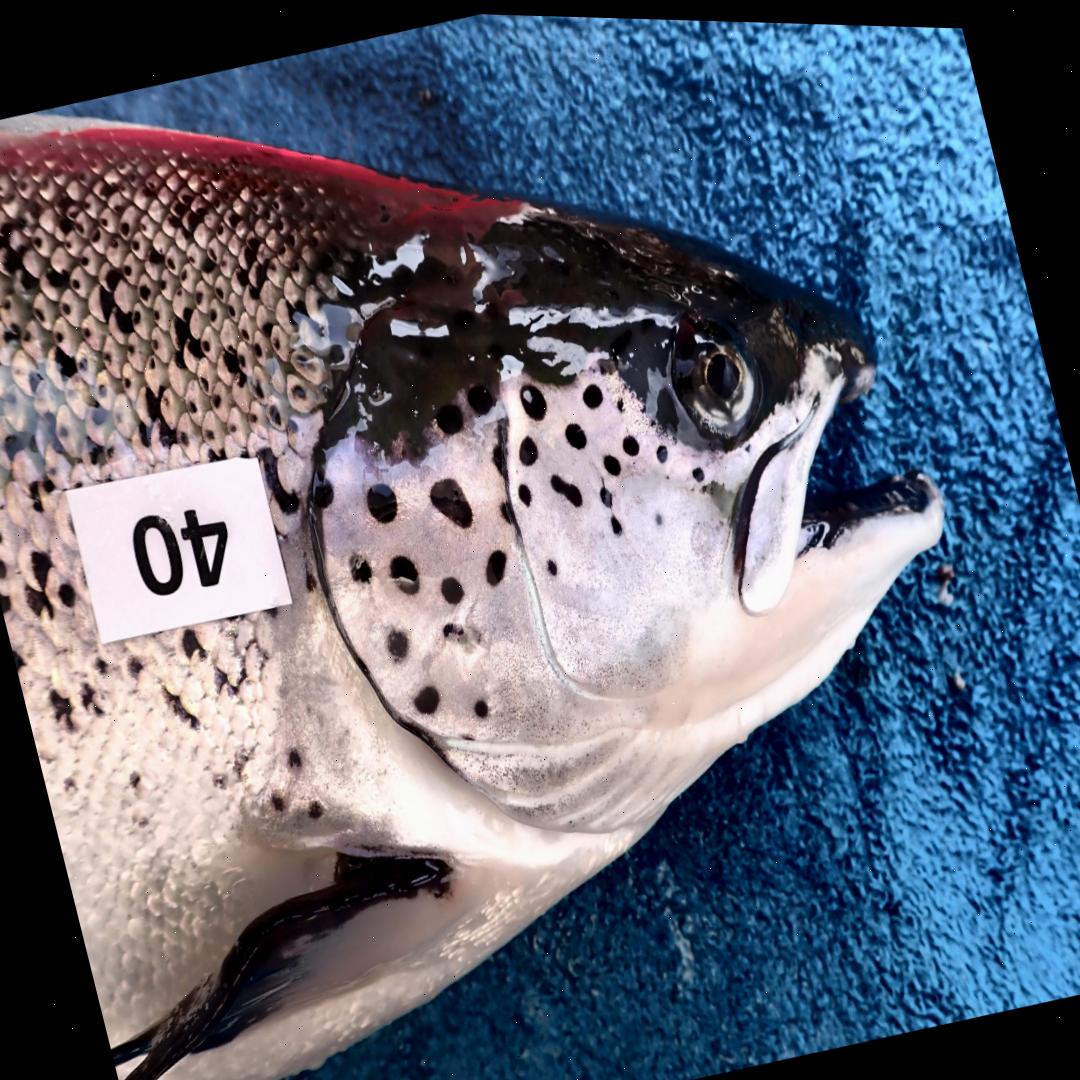spot: (429, 474, 471, 525), (365, 479, 396, 520), (388, 551, 418, 591), (442, 618, 478, 649), (549, 469, 581, 503), (519, 379, 546, 416), (308, 469, 333, 508), (490, 418, 506, 477), (434, 400, 462, 431), (384, 624, 408, 660), (466, 381, 493, 412), (412, 682, 438, 712), (348, 549, 371, 581), (484, 547, 505, 581), (439, 572, 462, 600), (564, 417, 586, 445), (517, 433, 536, 463), (581, 380, 602, 404), (498, 497, 515, 523), (620, 431, 639, 452), (602, 450, 620, 471), (597, 481, 612, 504), (472, 696, 489, 715), (516, 479, 530, 502), (608, 512, 622, 532), (690, 461, 704, 478), (655, 439, 667, 457), (545, 556, 557, 571), (614, 392, 624, 407), (654, 508, 662, 521)
